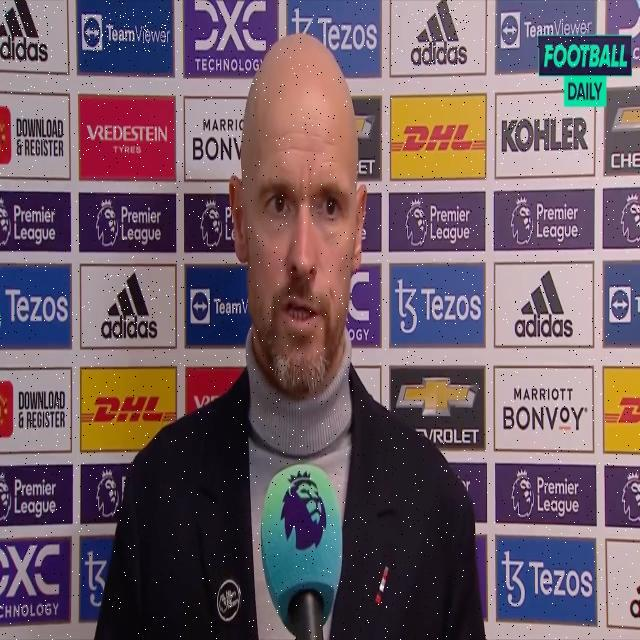Adidas: (101, 273, 157, 340), (411, 0, 467, 66), (2, 2, 48, 64)
Chevrolet: (397, 375, 482, 444)
Kohler: (502, 114, 589, 154)
TeamViewer: (82, 11, 170, 52), (502, 13, 592, 48)
